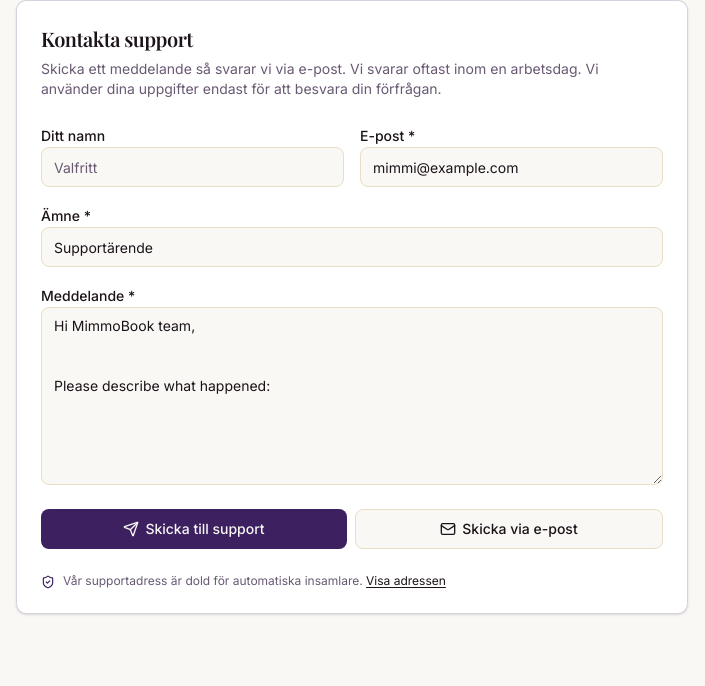
Test: contact form in sv › asks the spam-check question in the chosen language
Expected: the heading "Kontakta support" is shown, [41, 25, 193, 53]
Replace the text in the field with id "support-subject" with "Varaus puuttuu": (352, 247) [41, 227, 663, 267]
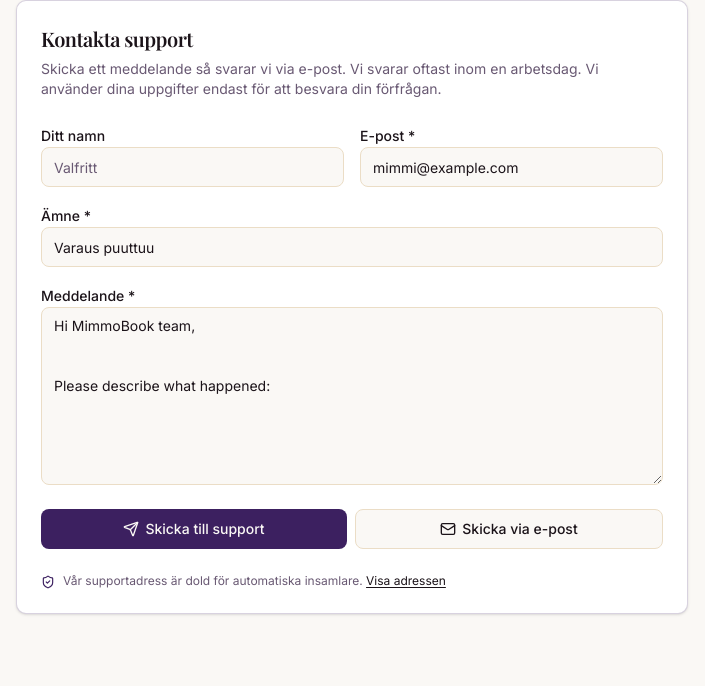
Replace the text in the text box with id "support-message" with "Asiakkaan varaus ei näy kalenterissa tänään.": (352, 396) [41, 307, 663, 485]
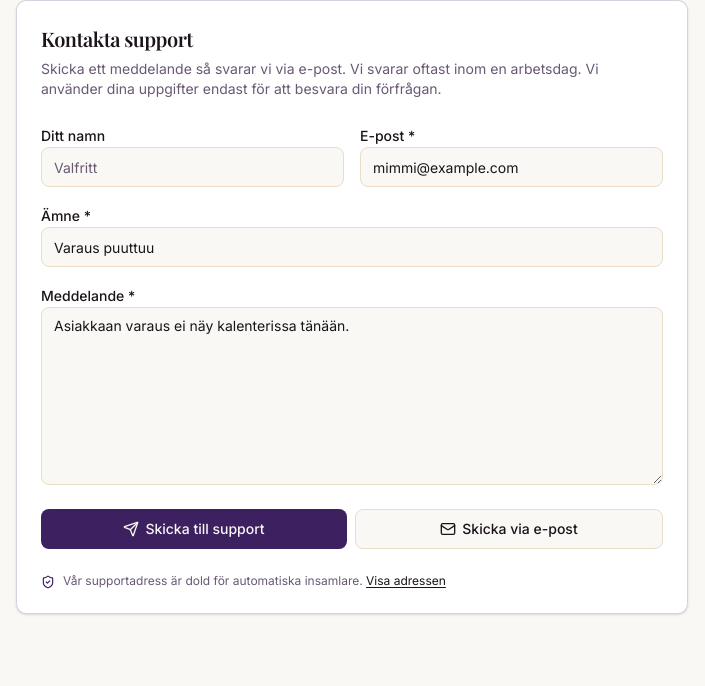
Submit the form with id "support-message", box [41, 123, 663, 589]
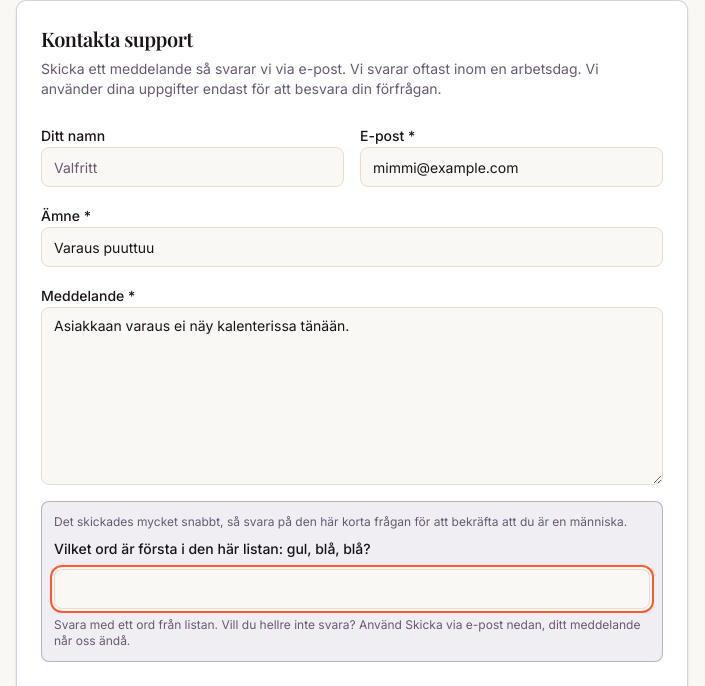
Now the text "Det skickades mycket snabbt, så svara på den här korta frågan för att bekräfta att du är en människa." is shown, box [54, 514, 627, 529]
Now the label "Vilket ord är första i den här listan: gul, blå, blå?" is shown, box [54, 540, 371, 557]
Now the text with id "support-challenge-hint" shows "Vill du hellre inte svara? Använd Skicka via e-post nedan, ditt meddelande når oss ändå.", box [54, 617, 640, 648]
